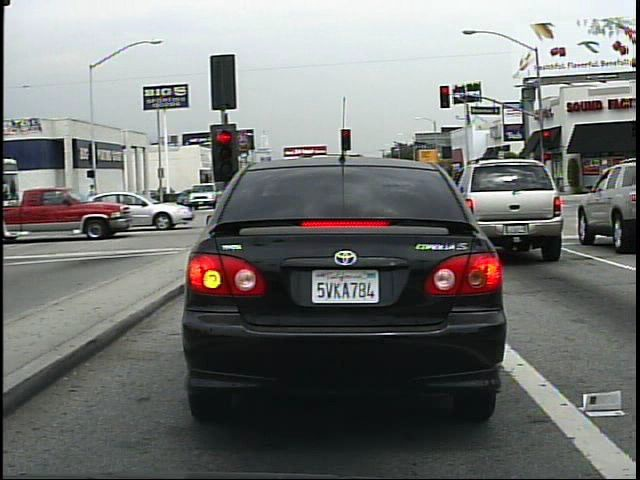person: (84, 183, 106, 218)
